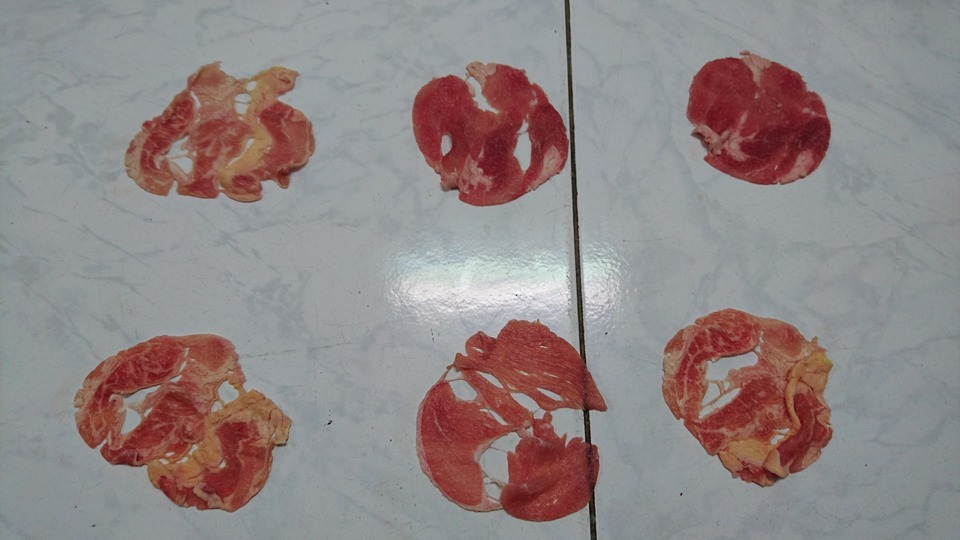restructured meat: (395, 313, 629, 528), (82, 334, 294, 507), (664, 31, 844, 215), (665, 306, 847, 486), (125, 49, 321, 206), (401, 50, 581, 215)
